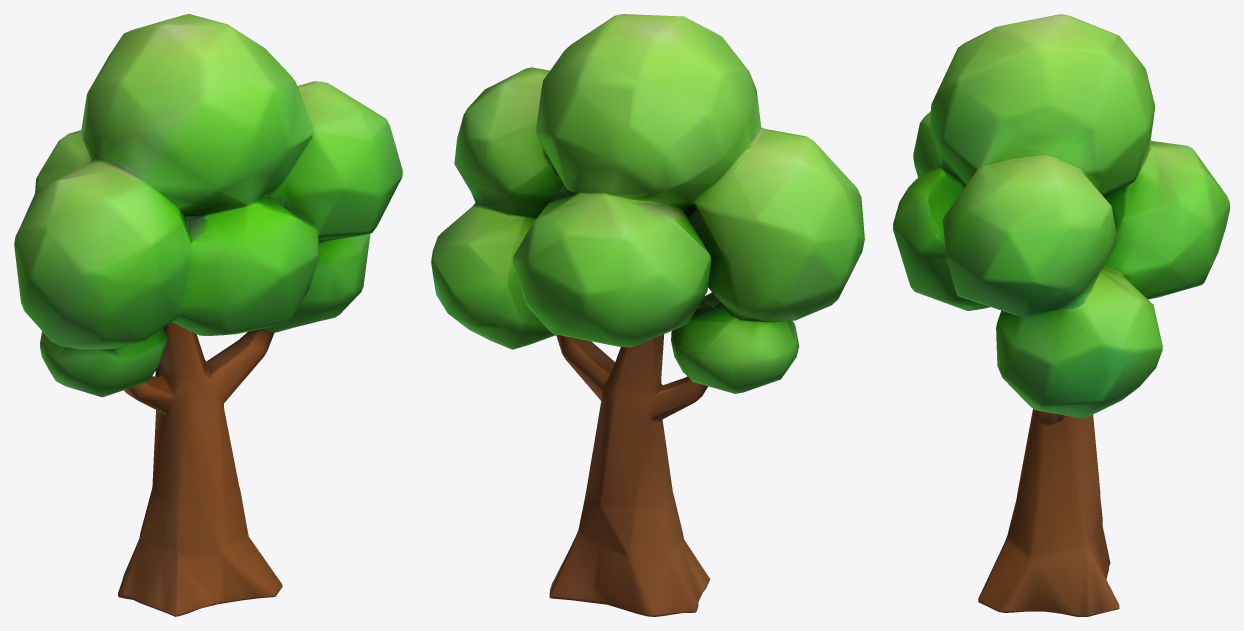
Rendered from env_oak.glb.
The picture shows the model from 3 angles, left to right: view 1: azimuth 30°, elevation 25°; view 2: azimuth 150°, elevation 25°; view 3: azimuth 270°, elevation 25°; orthographic projection.
Bounding box in the file's own units: 1.4 × 2 × 1.09.
Materials: 1 (1 with a texture image).
